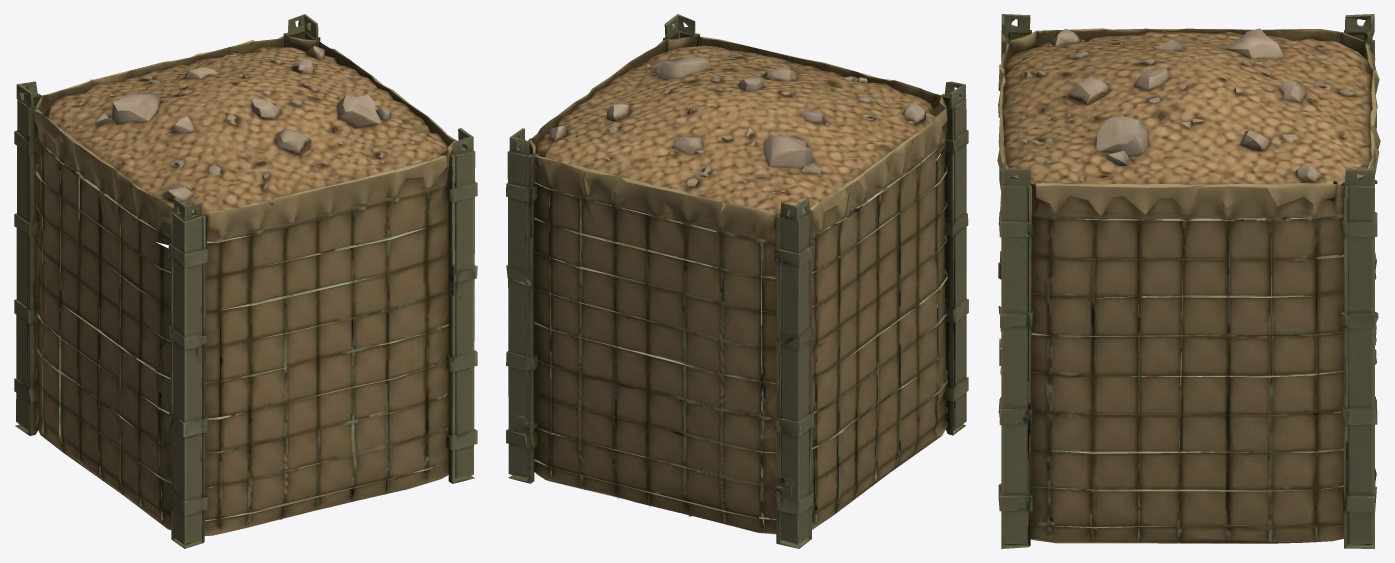
File: hesco.glb
3 renders of one model, left to right at view 1: azimuth 30°, elevation 25°; view 2: azimuth 150°, elevation 25°; view 3: azimuth 270°, elevation 25°, orthographic. The views are drawn at different scales.
Visible parts, largest first — view 1: hesco; view 2: hesco; view 3: hesco.
Part boxes in pixels (x1,y1,x2,y2): hesco: (14, 14, 477, 548); hesco: (506, 14, 968, 548); hesco: (997, 14, 1380, 548).
Size of the model in its own units: 0.8174 by 0.9512 by 0.8252.
Materials: 1 (1 with a texture image).
